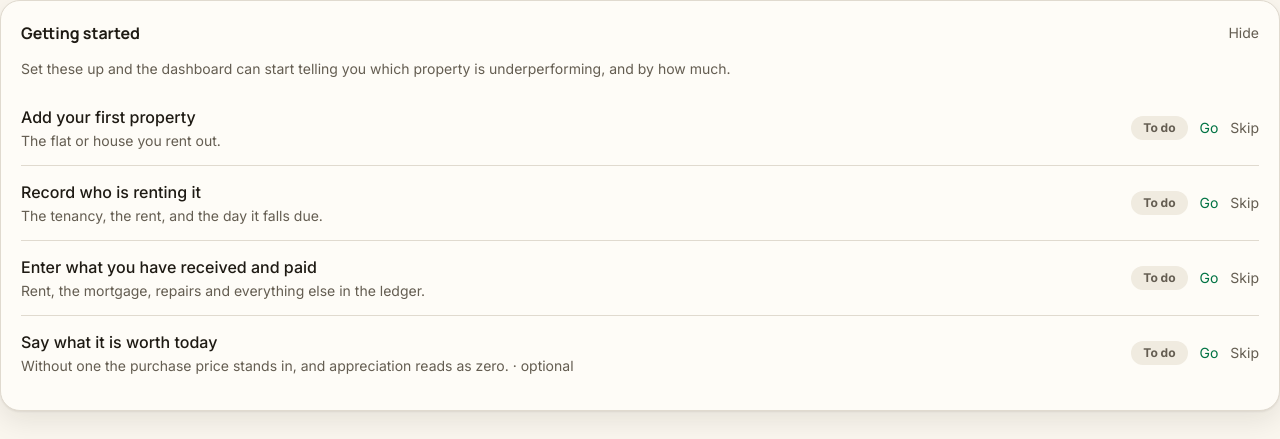
OnboardingChecklist › declining a step marks it skipped and removes its Go/Skip actions
Expected: the list item that starts with "Add your first property" is shown, x1=21 y1=91 x2=1259 y2=166
Click the button "Skip" in the row of "Add your first property". click: [1245, 128]
box: x1=1230 y1=118 x2=1259 y2=138
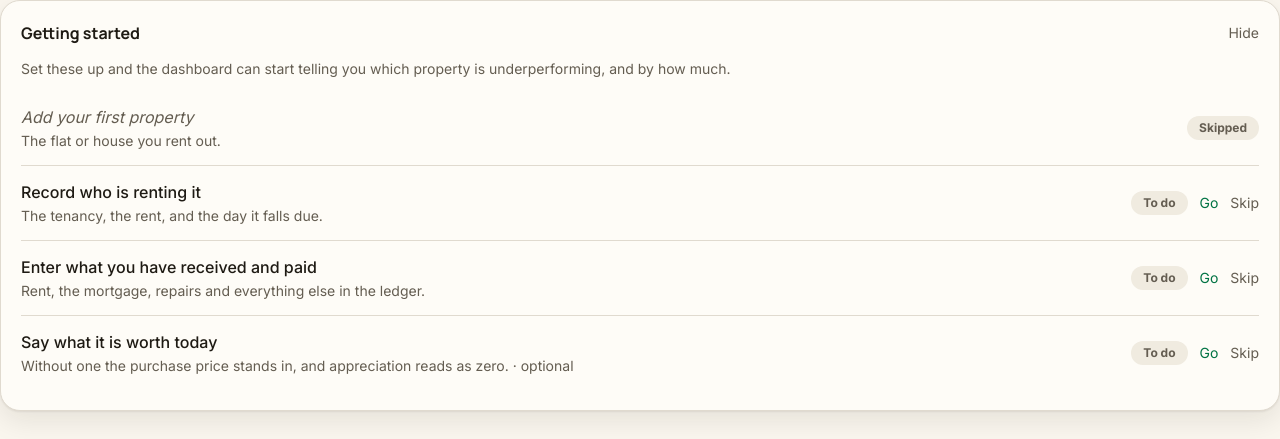
Expected: the heading "Getting started" is shown, x1=21 y1=21 x2=140 y2=45
Expected: the list item that starts with "Add your first property" shows "Skipped", x1=1199 y1=120 x2=1247 y2=135
